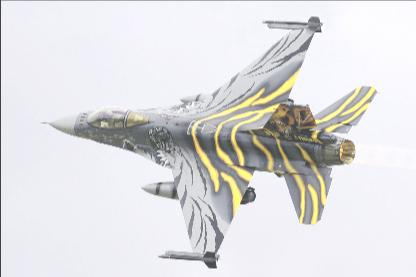F14: (37, 16, 379, 268)
